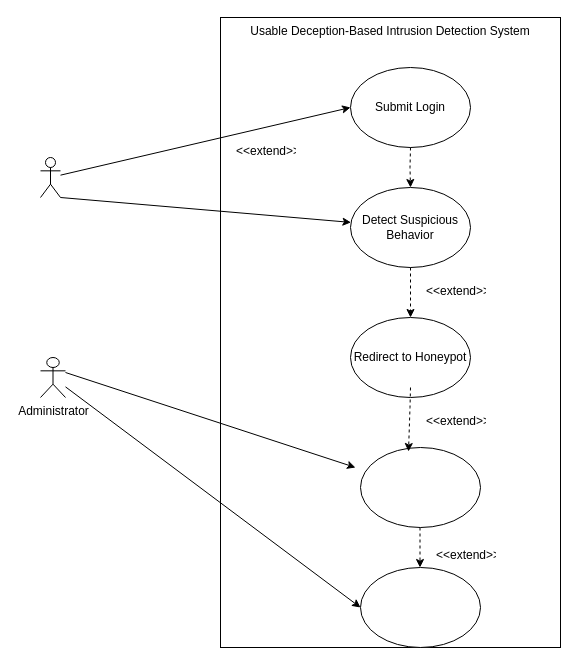
Image size: 578x665. Some labels were removed from this diagram. Each missing label, with the centre of its shape:
Interact with Honeypot: the point at 420,487
User: the point at 50,177
View Dashboards: the point at 420,607
